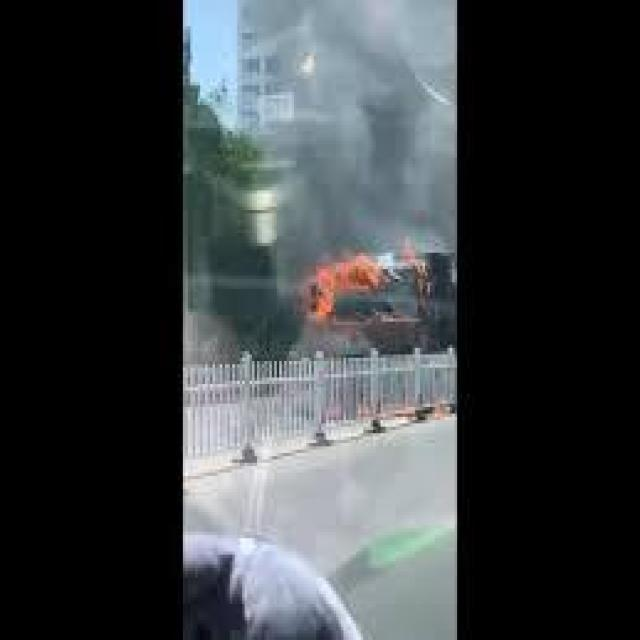Fire: (312, 254, 381, 324), (402, 240, 417, 264)
Smoke: (241, 0, 454, 270)
